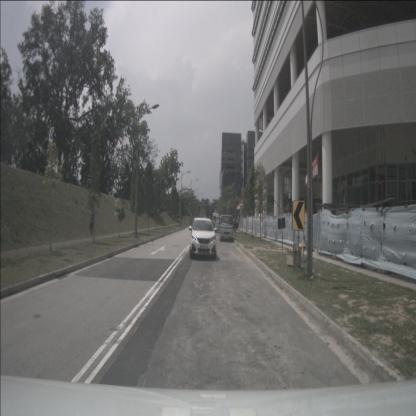human-pedestrian-adult: (89, 208, 94, 239)
vehicle-bicycle: (293, 229, 308, 263)
vehicle-car: (190, 218, 216, 258)
vehicle-truck: (219, 215, 234, 242), (215, 215, 223, 232), (212, 212, 220, 228)
